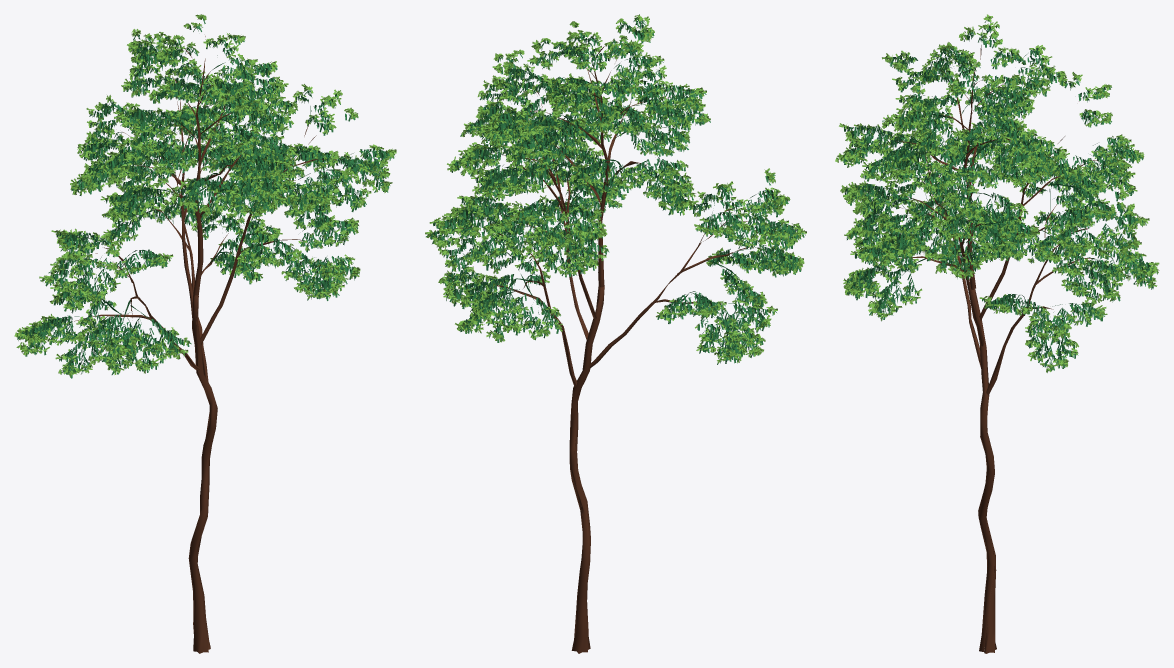
Rendered from ecovisao-tree.glb.
3 views of the same model, side by side, from view 1: azimuth 30°, elevation 25°; view 2: azimuth 150°, elevation 25°; view 3: azimuth 270°, elevation 25° (orthographic). The views are drawn at different scales.
Parts seen in each view (by area): view 1: Ecovisao_Tree; view 2: Ecovisao_Tree; view 3: Ecovisao_Tree.
Boxes of the visible parts, x1,y1,x2,y2 form: Ecovisao_Tree: (14,14,396,653); Ecovisao_Tree: (425,14,806,653); Ecovisao_Tree: (835,14,1159,653).
Bounding box in the file's own units: 2.8 × 5.01 × 2.38.
